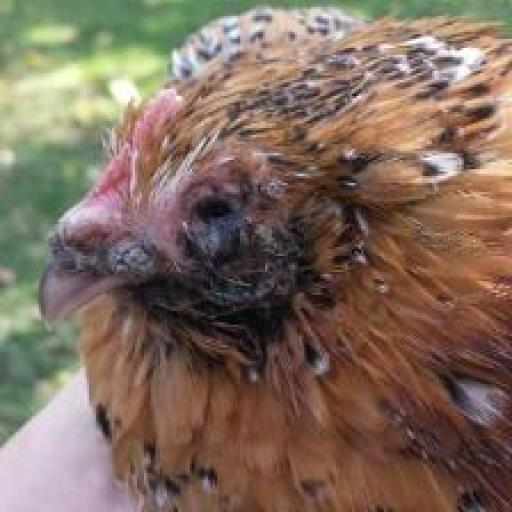disease: (159, 175, 265, 268), (32, 217, 157, 286)
